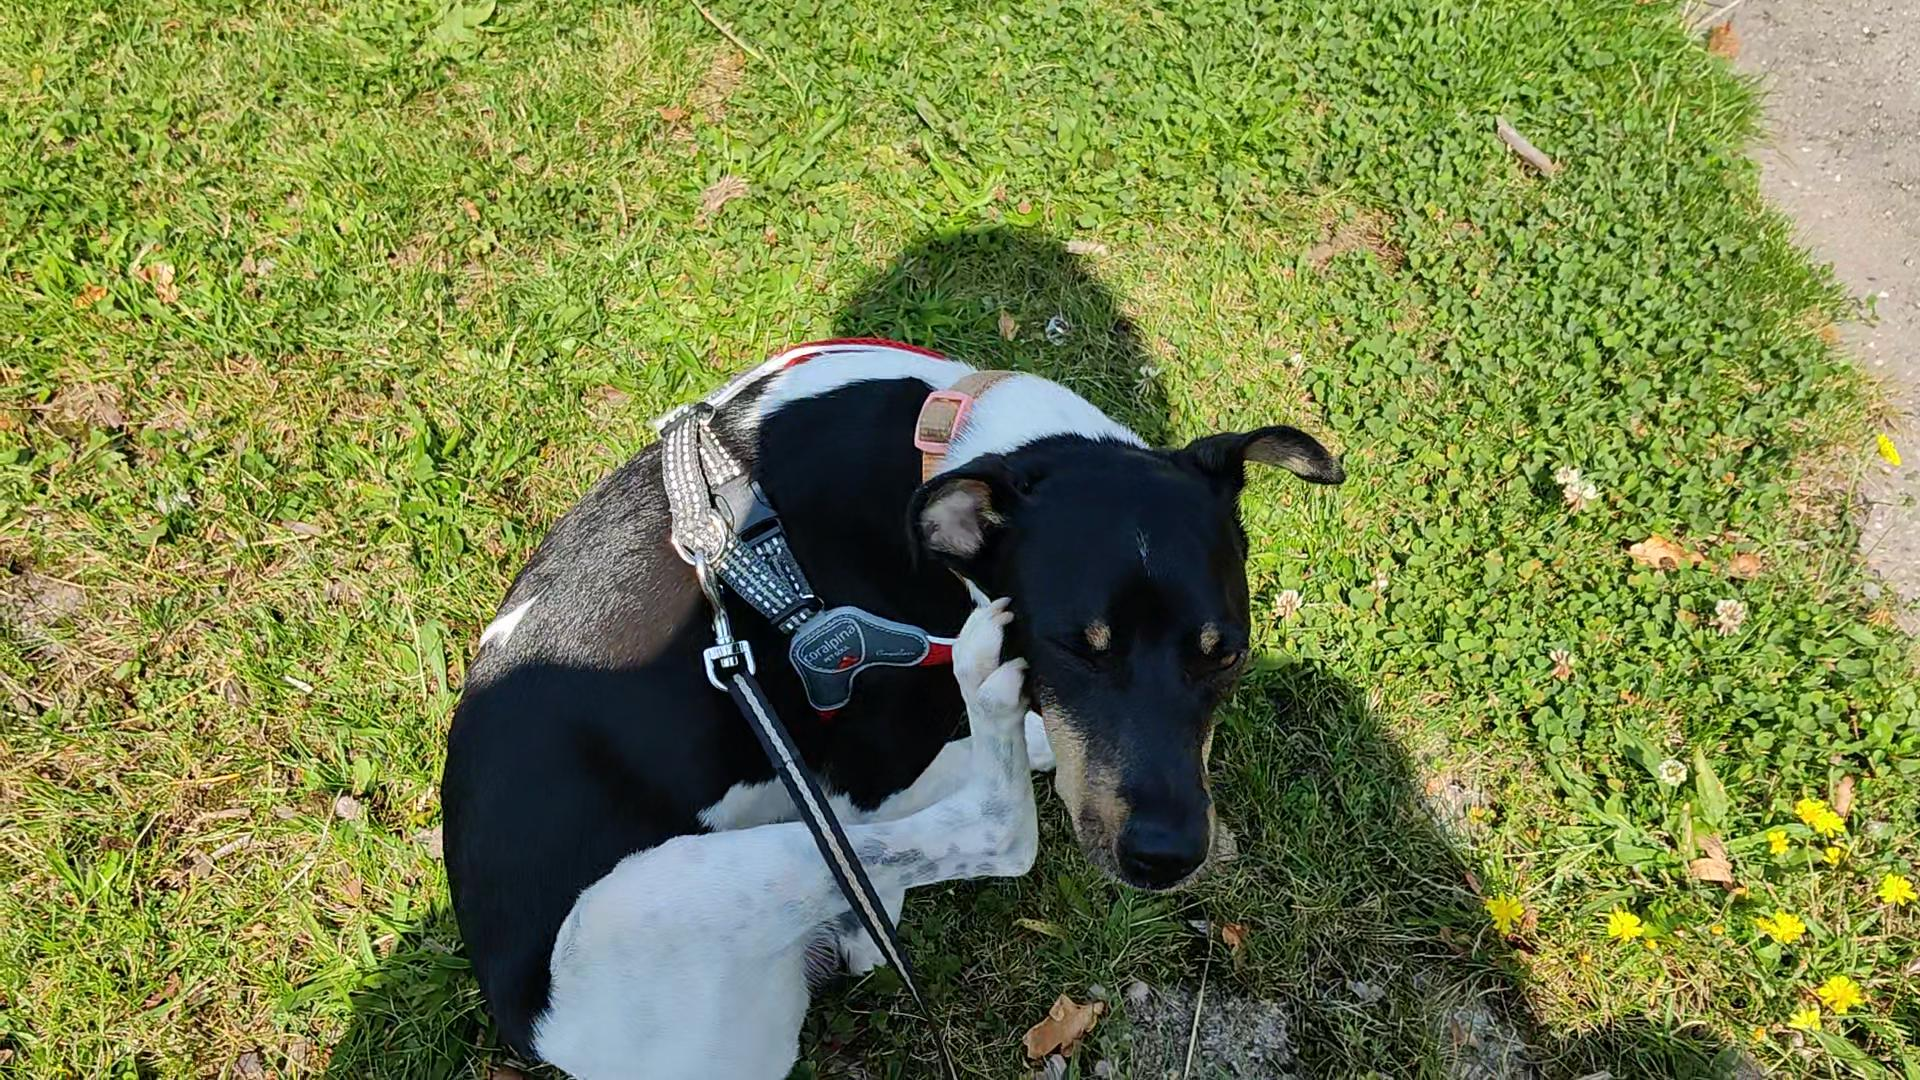Dog: (430, 324, 1360, 1079)
